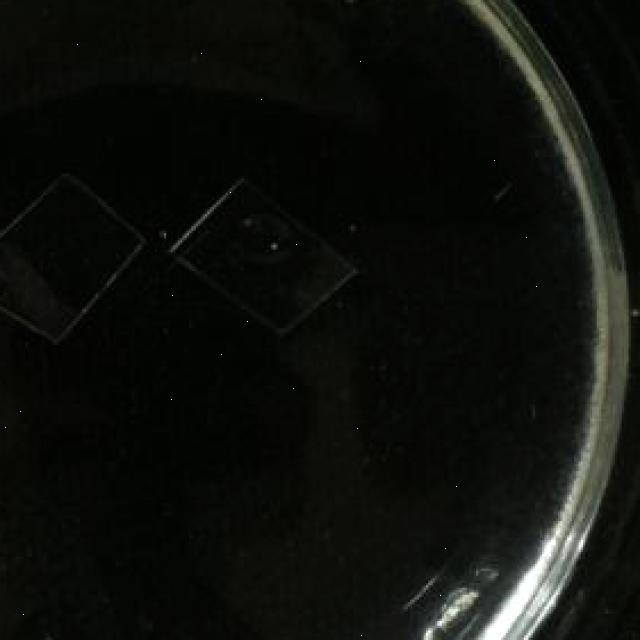Microplastic: (176, 126, 364, 352), (0, 147, 134, 359)
